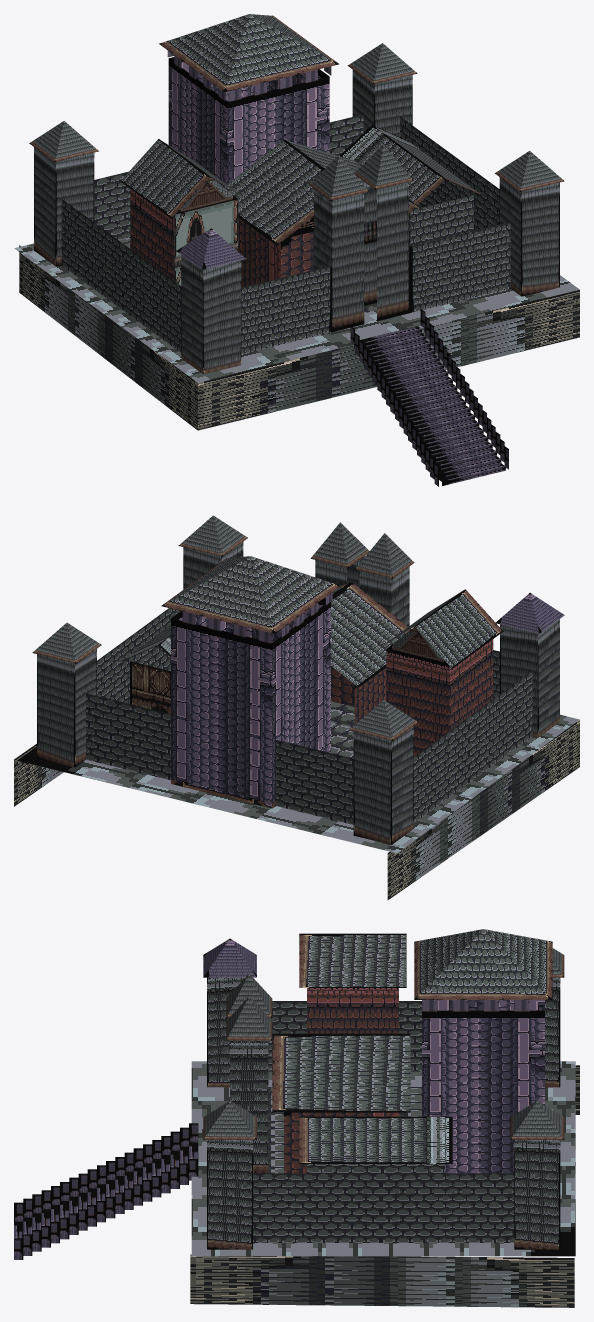
Rendered from castle_keep.glb.
The picture shows the model from 3 angles, top to bottom: view 1: azimuth 30°, elevation 25°; view 2: azimuth 150°, elevation 25°; view 3: azimuth 270°, elevation 25°; orthographic projection. The views are drawn at different scales.
Visible parts, largest first — view 1: Cliff_Front, Cliff_Top, Wall_Left, Cliff_Front.001, Wall_FrontR, Keep_Front, Wall_FrontL, Hall_RoofL, Keep_Left, GateTowerL_Front, Keep_RoofF, GateTowerR_Front (+36 smaller); view 2: Keep_Back, Wall_Back, Cliff_Front.001, Cliff_Top, Wall_Left, Keep_Left, Hall_RoofL, Chapel_Back, Keep_RoofB, TowerNW_Back, TowerNE_Back, Chapel_RoofL (+31 smaller); view 3: Cliff_Front.002, Wall_Right, Keep_Right, Cliff_Top, Hall_RoofR, Barracks_RoofR, Chapel_RoofR, TowerNE_Right, TowerSE_Right, Keep_RoofR, Chapel_Right, GateTowerR_Right (+14 smaller).
Boxes of the visible parts, left/top/right/bottom form: Cliff_Front: left=198, top=289, right=579, bottom=430; Cliff_Top: left=14, top=238, right=579, bottom=382; Wall_Left: left=61, top=199, right=181, bottom=352; Cliff_Front.001: left=19, top=245, right=197, bottom=430; Wall_FrontR: left=408, top=222, right=510, bottom=313; Keep_Front: left=227, top=76, right=329, bottom=183; Wall_FrontL: left=241, top=265, right=332, bottom=354; Hall_RoofL: left=224, top=140, right=324, bottom=245; Keep_Left: left=168, top=58, right=227, bottom=187; GateTowerL_Front: left=332, top=193, right=364, bottom=331; Keep_RoofF: left=225, top=14, right=338, bottom=91; GateTowerR_Front: left=377, top=182, right=408, bottom=320; Keep_Back: left=171, top=618, right=272, bottom=808; Wall_Back: left=86, top=693, right=353, bottom=824; Cliff_Front.001: left=387, top=720, right=579, bottom=900; Cliff_Top: left=17, top=703, right=579, bottom=853; Wall_Left: left=413, top=670, right=532, bottom=823; Keep_Left: left=272, top=602, right=330, bottom=808; Hall_RoofL: left=331, top=582, right=410, bottom=687; Chapel_Back: left=386, top=649, right=449, bottom=756; Keep_RoofB: left=161, top=556, right=274, bottom=633; TowerNW_Back: left=353, top=731, right=391, bottom=844; TowerNE_Back: left=37, top=654, right=74, bottom=767; Chapel_RoofL: left=414, top=589, right=502, bottom=668; Cliff_Front.002: left=190, top=1254, right=574, bottom=1307; Wall_Right: left=253, top=1173, right=514, bottom=1242; Keep_Right: left=422, top=1010, right=544, bottom=1173; Cliff_Top: left=191, top=1061, right=575, bottom=1256; Hall_RoofR: left=272, top=1033, right=410, bottom=1112; Barracks_RoofR: left=299, top=1116, right=452, bottom=1163; Chapel_RoofR: left=299, top=933, right=406, bottom=987; TowerNE_Right: left=514, top=1140, right=560, bottom=1249; TowerSE_Right: left=207, top=1140, right=252, bottom=1249; Keep_RoofR: left=415, top=929, right=551, bottom=999; Chapel_Right: left=307, top=988, right=398, bottom=1033; GateTowerR_Right: left=230, top=1040, right=268, bottom=1173.
Size of what is drawn, in the model's own units: 60.56 by 44.98 by 73.7.
Materials: 3 (3 with a texture image).
